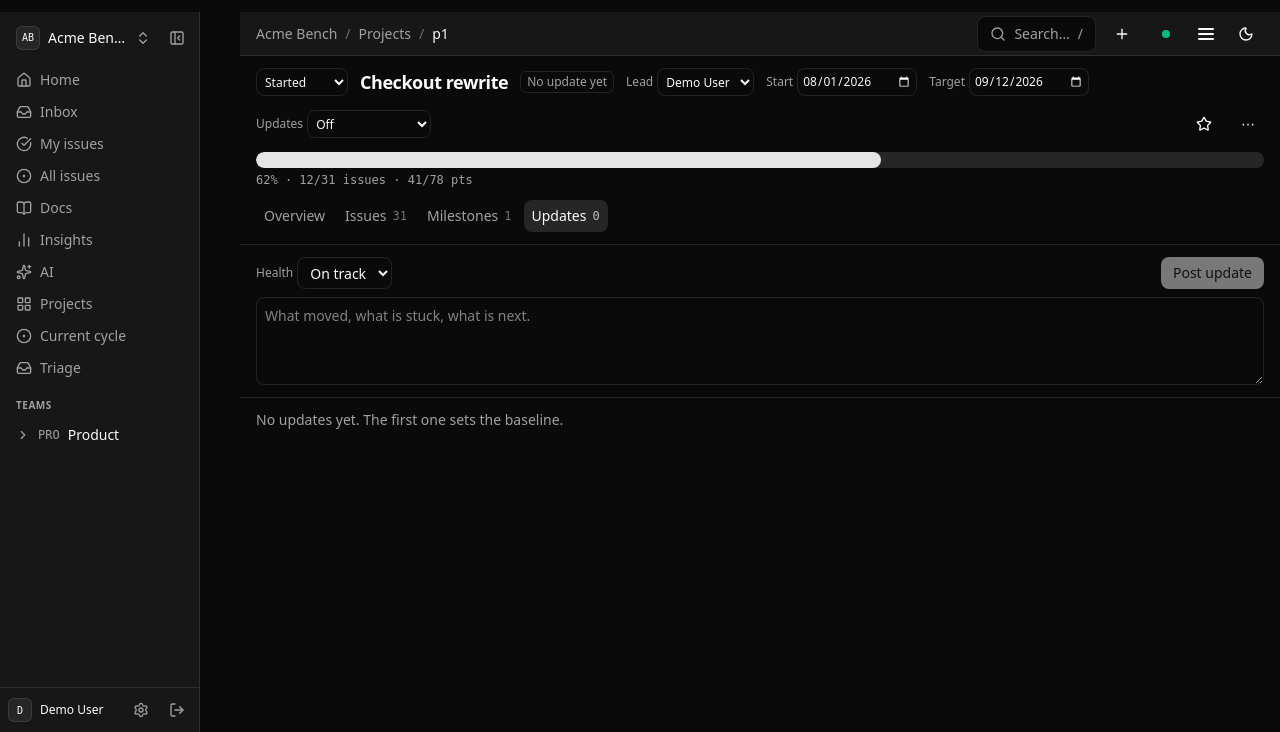
Test: project updates › posts the health the picker shows, then re-reads the feed and the header
Click the link "Home" at point(48, 80), box [16, 70, 80, 89]
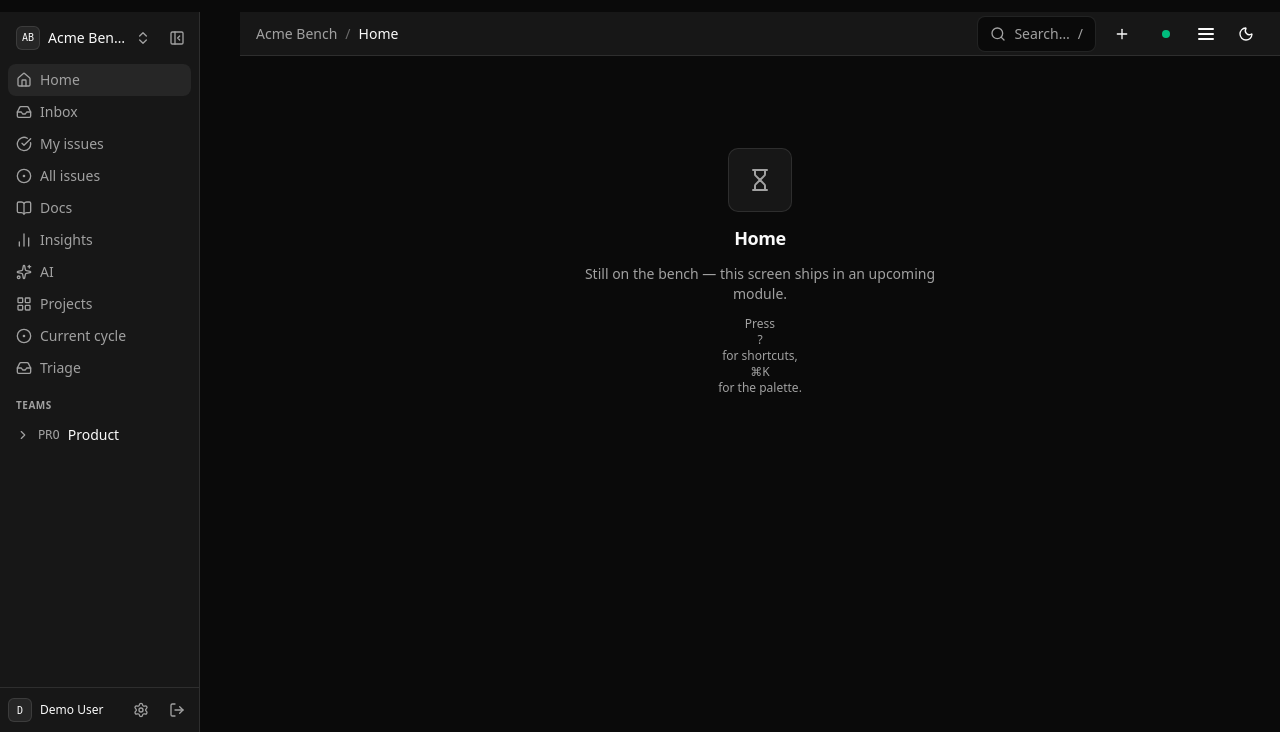
expect the heading "Home" is shown: met, box [734, 224, 786, 252]
Click the link "Projects" at point(54, 304), box [16, 294, 92, 313]
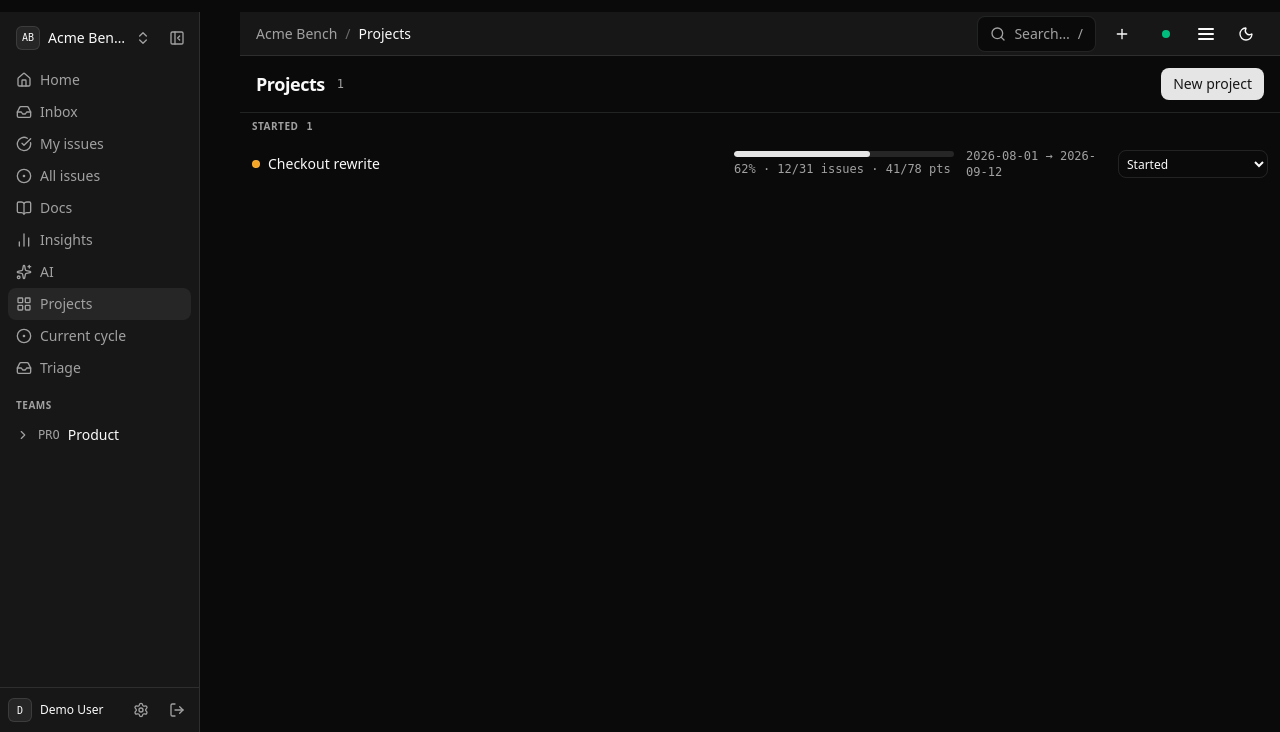
expect the heading "Projects" is shown: met, box [256, 70, 325, 98]
Click the link "Checkout rewrite" at point(324, 164), box [268, 154, 380, 174]
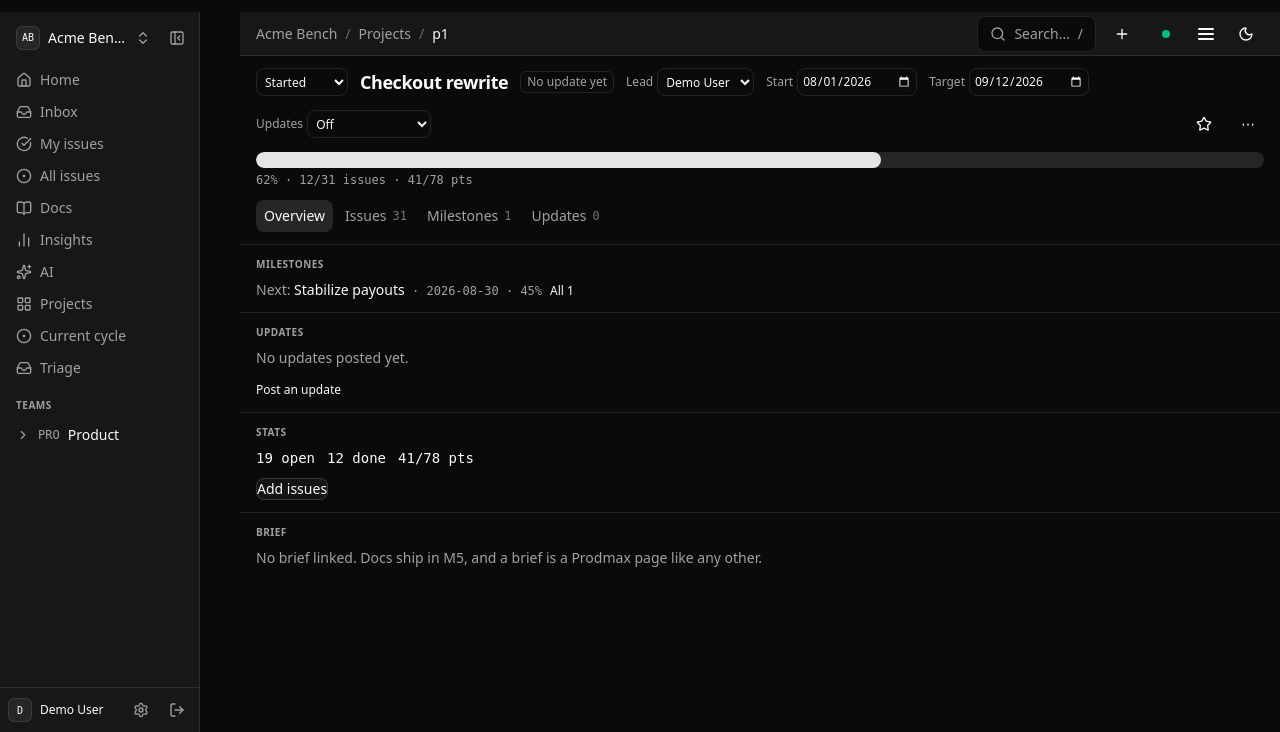
expect the text with test id "pj-health-chip" reads "No update yet": met, box [527, 73, 607, 90]
Click the link "Updates 0" at point(566, 216), box [532, 206, 600, 225]
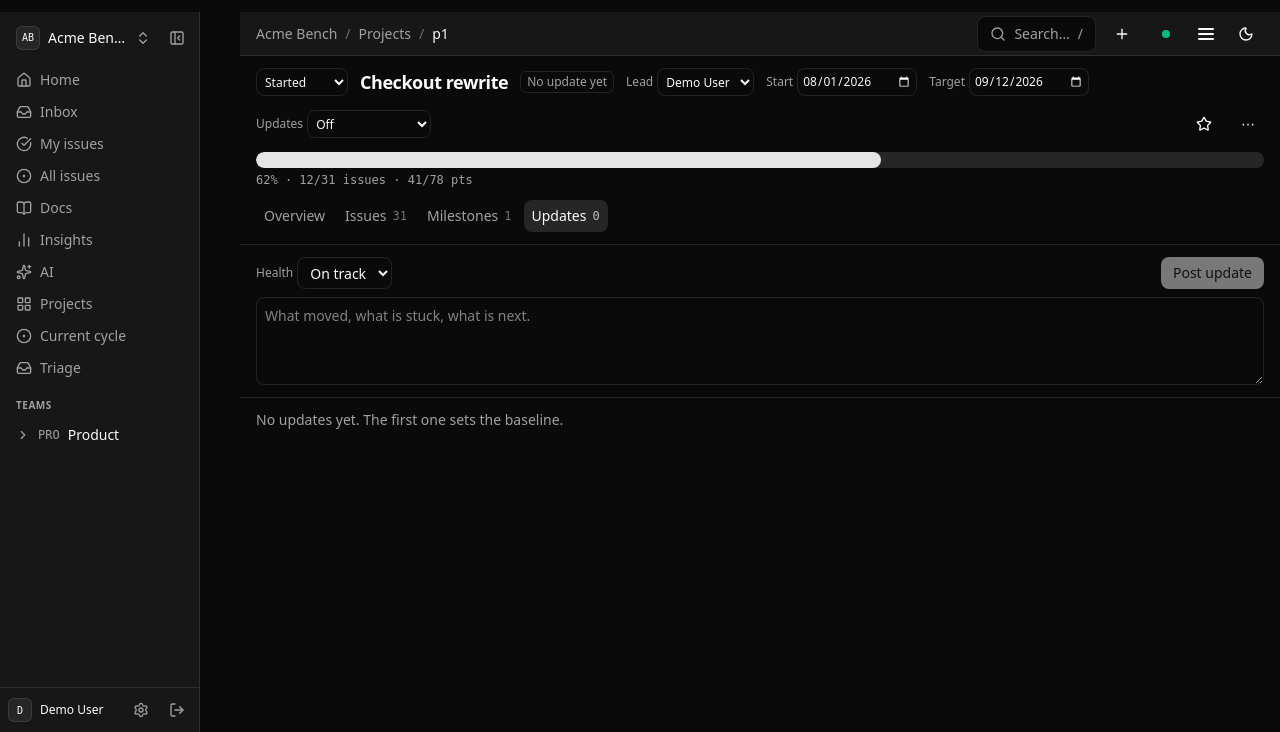
expect the button "Post update" is shown: met, box [1161, 257, 1264, 289]
Select "At risk" in the dropdown labelled "Health" at point(345, 273), box [297, 257, 392, 289]
Type "Gateway rotation slipped" into the text box named "Update body" at point(760, 341), box [256, 297, 1264, 385]
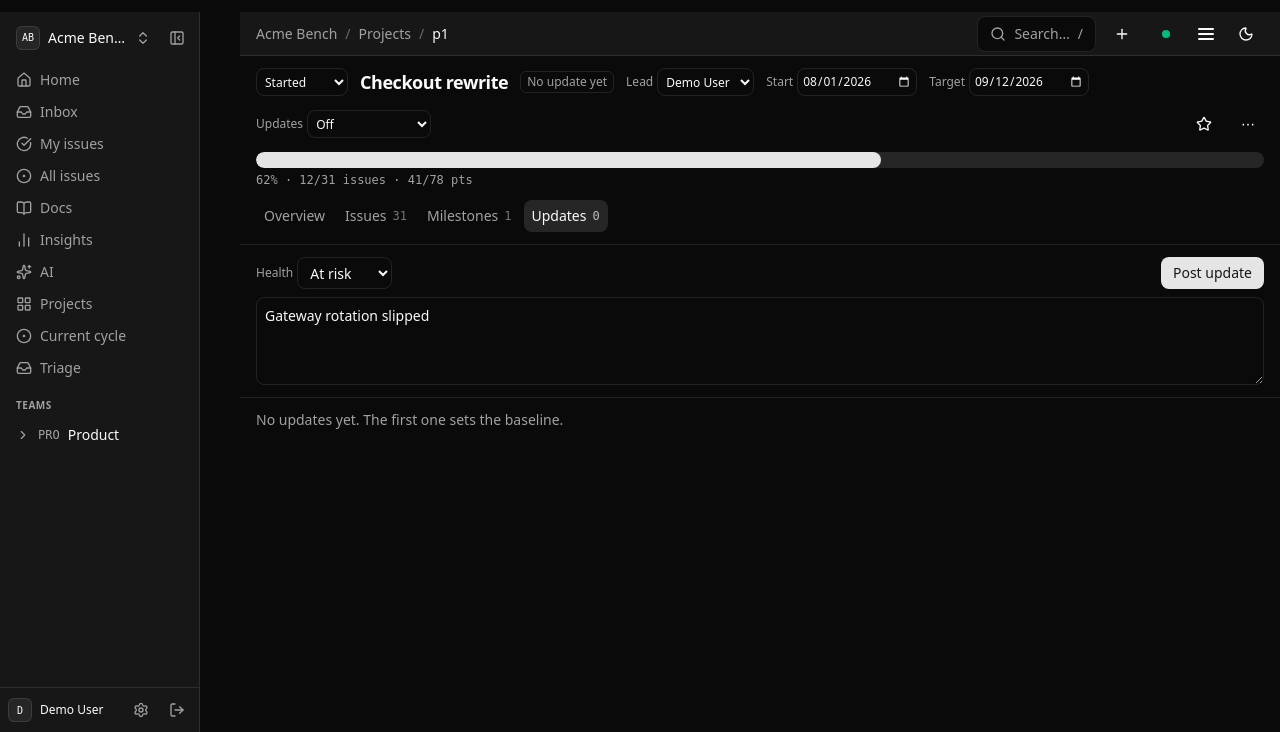
Click the button "Post update" at point(1212, 273), box [1161, 257, 1264, 289]
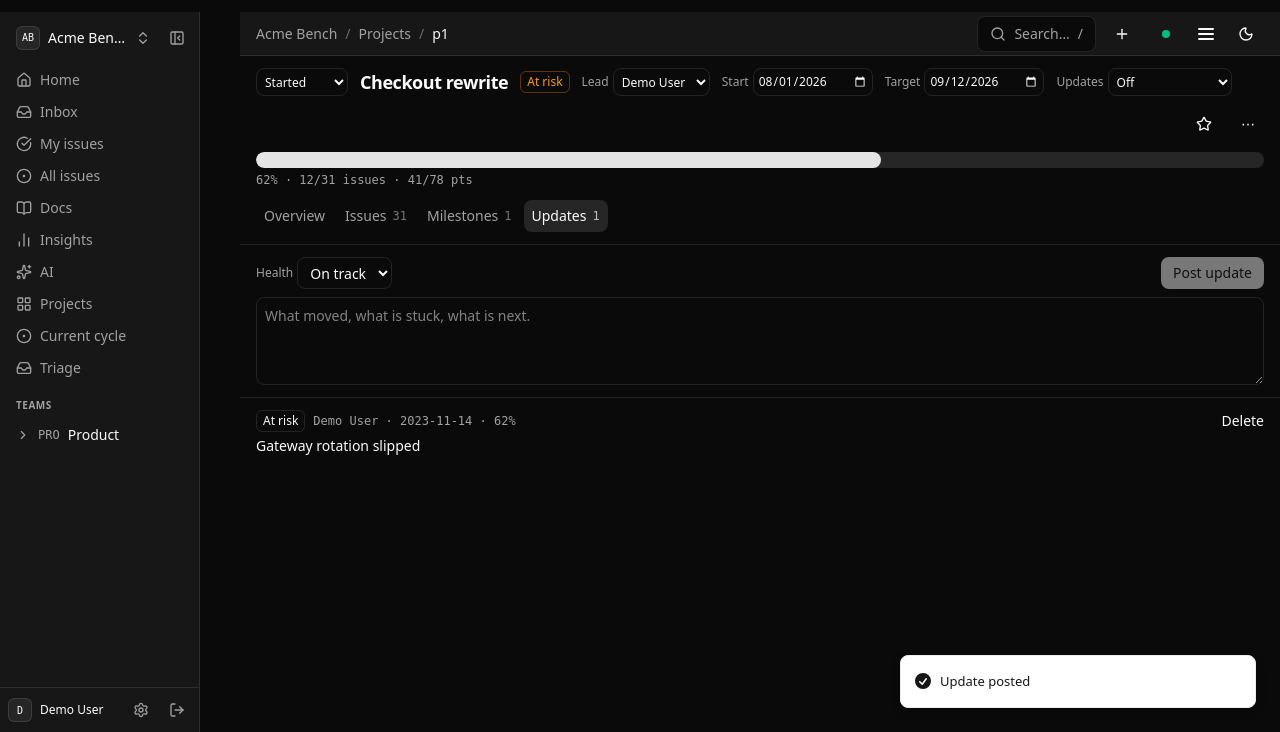
expect the text box "Gateway rotation slipped" is shown: met, box [256, 297, 1264, 385]
expect the text with test id "pj-health-chip" reads "At risk": met, box [527, 73, 562, 90]
